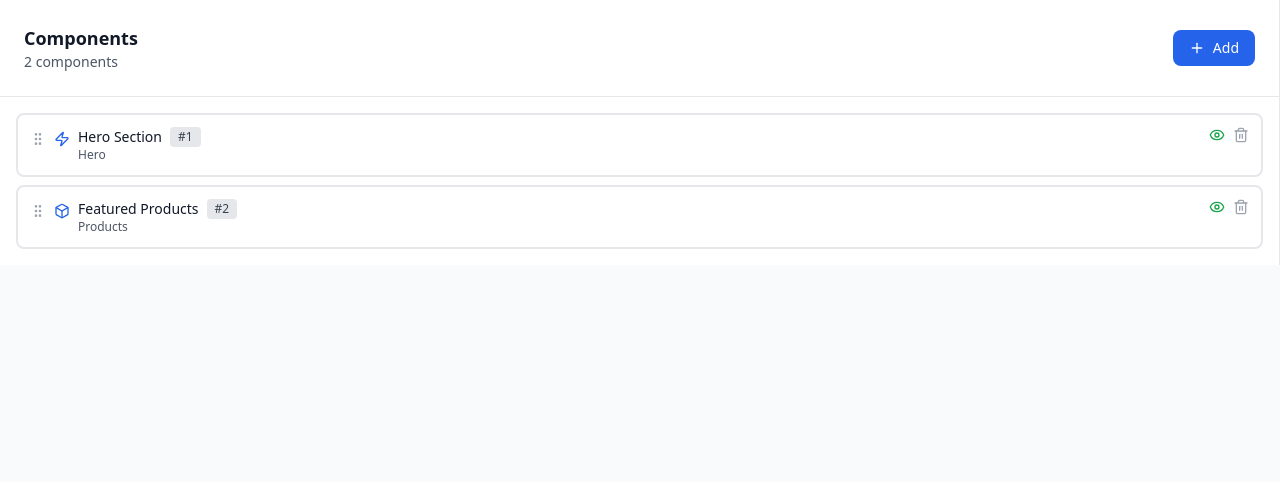
ComponentBuilder › Add Component › should show descriptions for component types
Click the button "Add".
click(1214, 48)  # box [1173,30,1255,66]
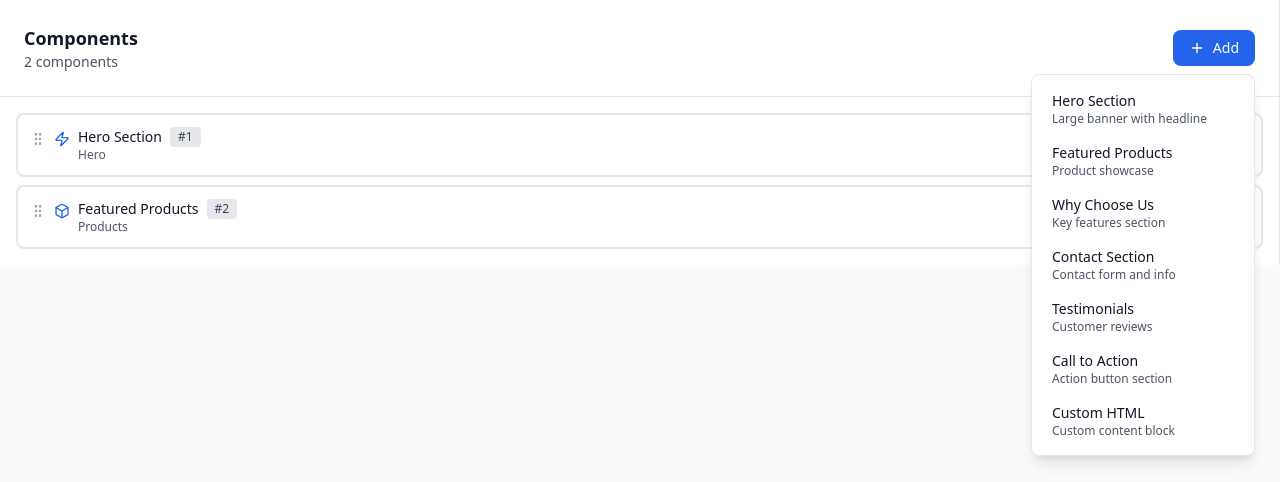
Expected: the text "Product showcase" is shown, [1052,162,1154,179]
Expected: the text "Contact form and info" is shown, [1052,266,1176,283]
